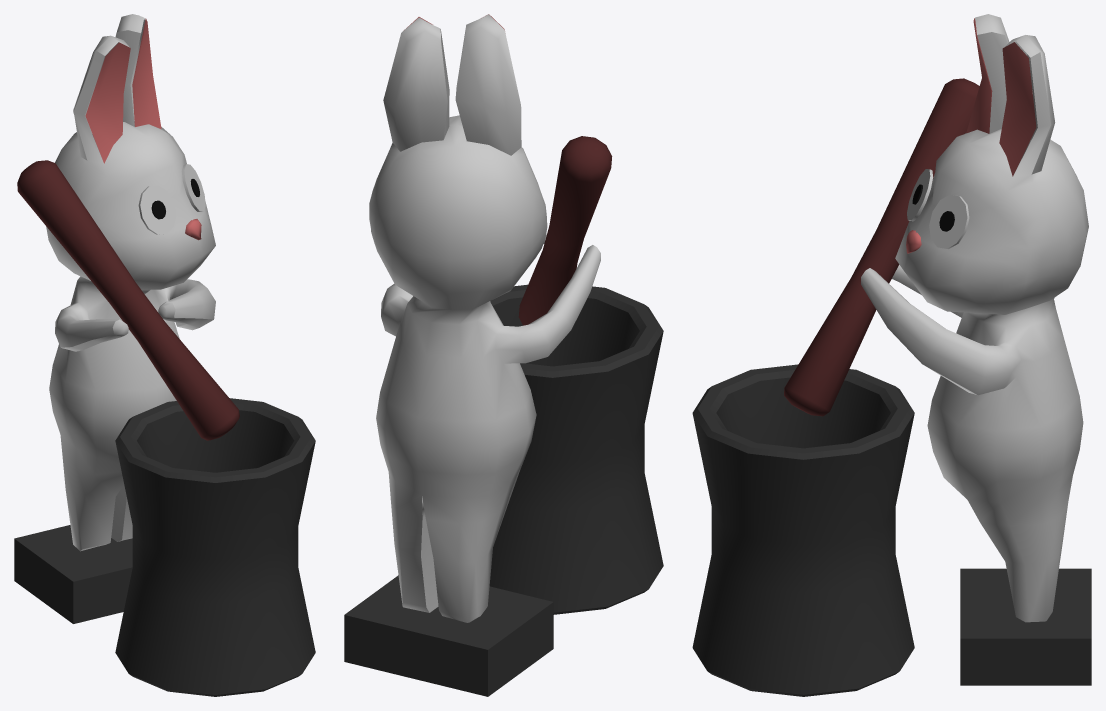
Rendered from Rabbit.fbx.
The picture shows the model from 3 angles, left to right: view 1: azimuth 30°, elevation 25°; view 2: azimuth 150°, elevation 25°; view 3: azimuth 270°, elevation 25°; orthographic projection. The views are drawn at different scales.
Visible parts, largest first — view 1: Cylinder020, Sphere007, Cylinder021, Box018, Cylinder022, Cylinder024; view 2: Sphere007, Cylinder020, Box018, Cylinder021; view 3: Sphere007, Cylinder020, Box018, Cylinder021, Cylinder024, Cylinder022.
Part boxes in pixels (bbox=[...]): Cylinder020: bbox=[115, 398, 315, 696]; Sphere007: bbox=[46, 14, 215, 551]; Cylinder021: bbox=[17, 160, 239, 440]; Box018: bbox=[14, 525, 132, 623]; Cylinder022: bbox=[138, 185, 176, 234]; Cylinder024: bbox=[181, 164, 205, 211]; Sphere007: bbox=[369, 14, 600, 622]; Cylinder020: bbox=[489, 284, 663, 614]; Box018: bbox=[344, 575, 553, 696]; Cylinder021: bbox=[518, 136, 612, 325]; Sphere007: bbox=[861, 14, 1088, 622]; Cylinder020: bbox=[692, 364, 914, 696]; Box018: bbox=[960, 568, 1091, 685]; Cylinder021: bbox=[784, 78, 979, 416]; Cylinder024: bbox=[929, 194, 969, 249]; Cylinder022: bbox=[907, 169, 933, 221].
Size of the model in its own units: 87.4 by 225 by 130.
